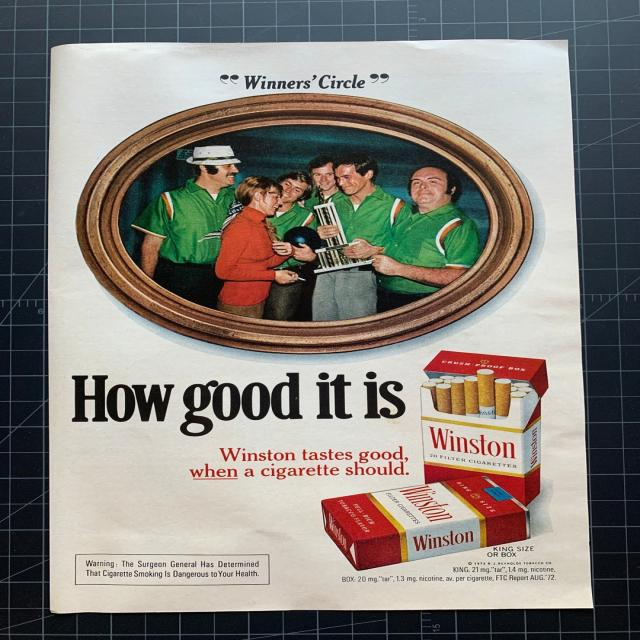winston: (409, 347, 545, 513), (313, 478, 533, 579)
